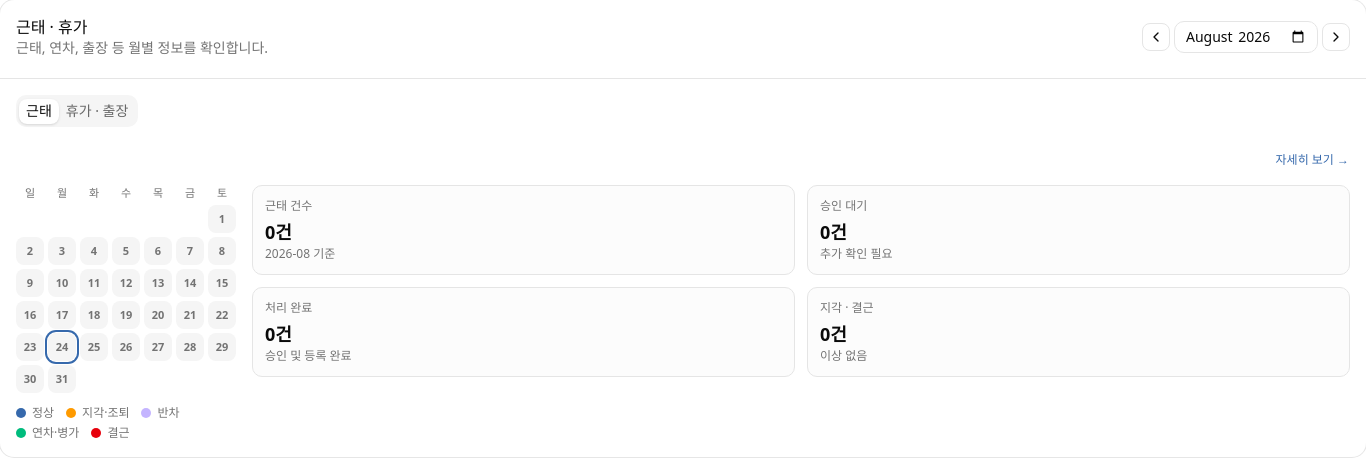
Test: PersonalRecordsWidget - 휴가·출장 탭 › 신청 내역이 없으면 안내 문구를 보여준다
Click the tab "휴가 · 출장". click: (97, 111)
box: [59,98,135,124]
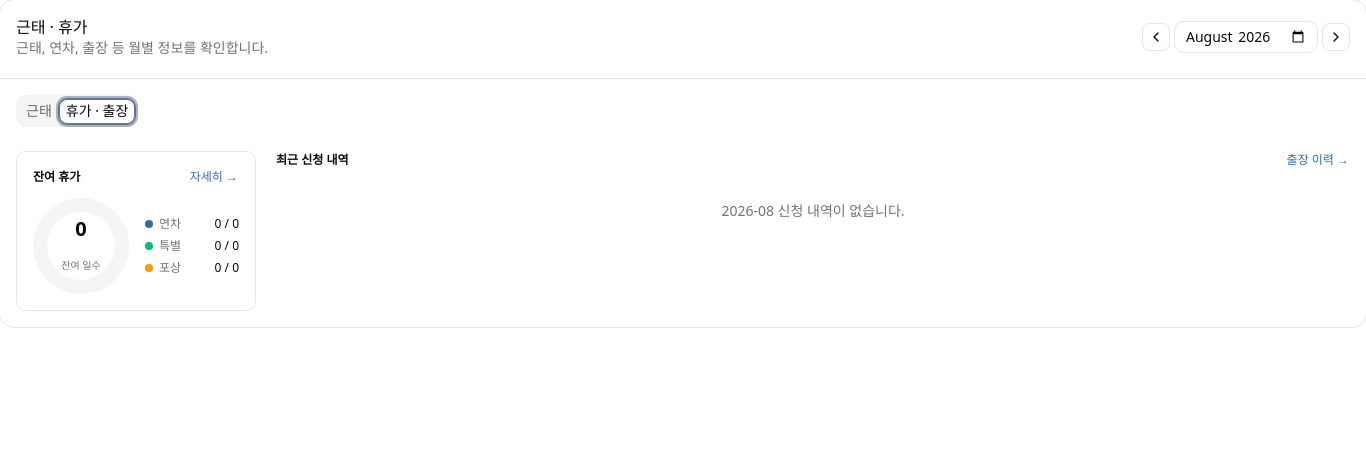
Now the text "2026-08 신청 내역이 없습니다." is shown, box [721,201,905,220]
